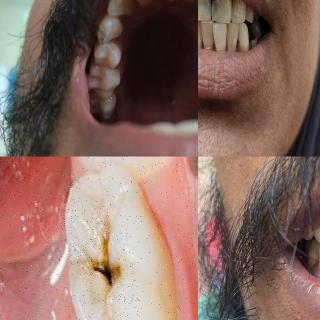calculus: (102, 37, 124, 65), (232, 33, 242, 60)
cavities: (62, 188, 128, 320), (204, 0, 222, 18)
maligned: (212, 18, 228, 50), (200, 18, 216, 46), (198, 15, 204, 49)
plaque: (315, 258, 320, 278)
